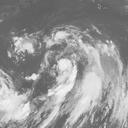cyclone: (12, 24, 105, 112)
